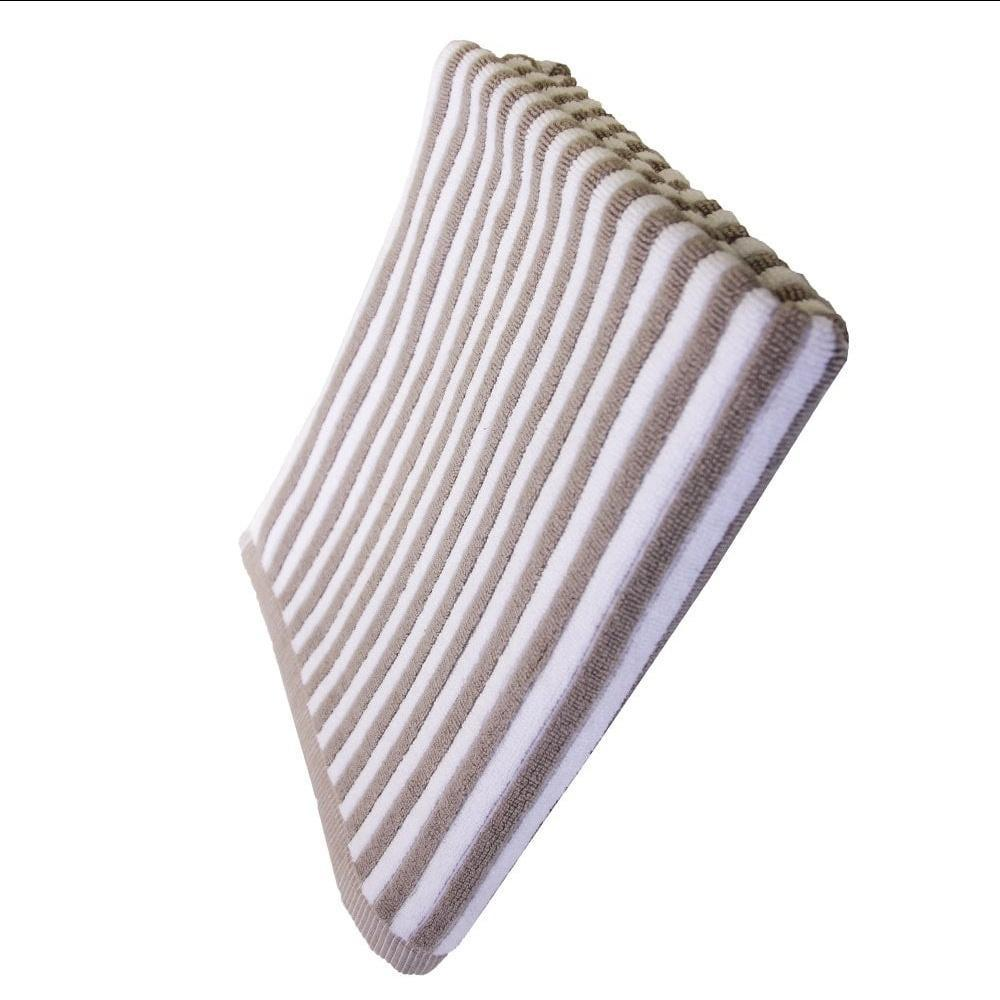towel: (140, 40, 855, 995)
